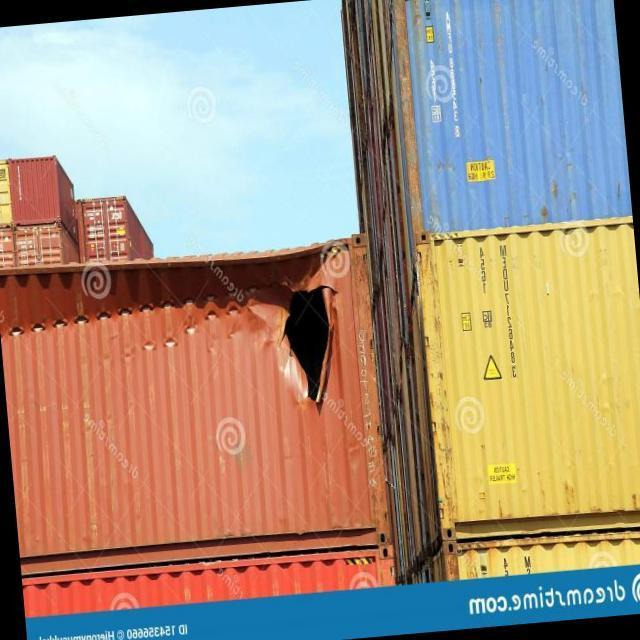hole: (277, 284, 345, 409)
